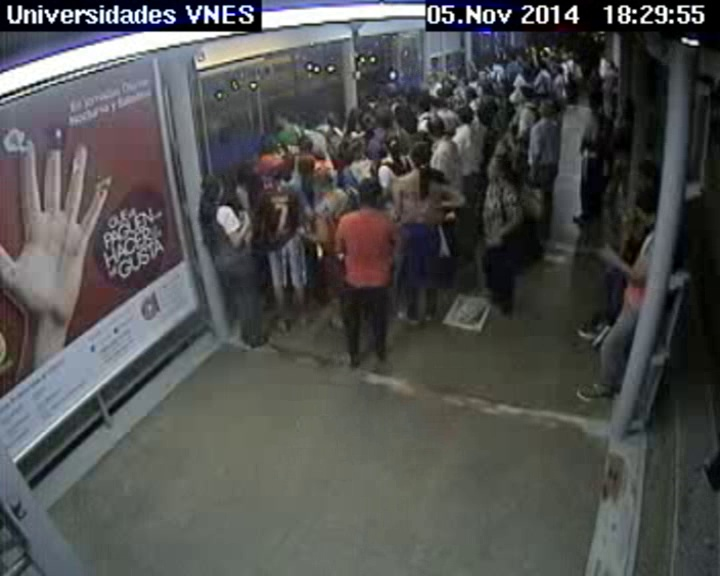person: (201, 173, 236, 208), (632, 193, 662, 228), (356, 177, 384, 208), (408, 141, 436, 170), (633, 162, 659, 190), (263, 162, 286, 188), (485, 154, 509, 178), (339, 137, 362, 160), (315, 169, 337, 193), (234, 165, 256, 188), (273, 105, 296, 126), (373, 108, 394, 130), (295, 156, 316, 178), (426, 116, 447, 137), (381, 133, 402, 153), (277, 177, 298, 197), (537, 98, 556, 119), (258, 135, 277, 155), (456, 106, 475, 125), (295, 134, 314, 153), (513, 86, 531, 106), (349, 108, 366, 127), (521, 64, 538, 81), (414, 98, 431, 115), (616, 99, 632, 117), (586, 95, 602, 112), (314, 108, 330, 124), (464, 86, 478, 101), (432, 97, 446, 112), (440, 81, 454, 94), (480, 84, 494, 97), (476, 69, 488, 81), (426, 74, 438, 86), (446, 70, 458, 82), (520, 45, 532, 55), (538, 59, 549, 69), (562, 52, 572, 61), (507, 52, 516, 62), (590, 68, 599, 78), (539, 48, 548, 57), (524, 52, 533, 61), (483, 65, 492, 74), (597, 58, 606, 66), (606, 59, 614, 68), (556, 65, 564, 74), (495, 54, 502, 63)
